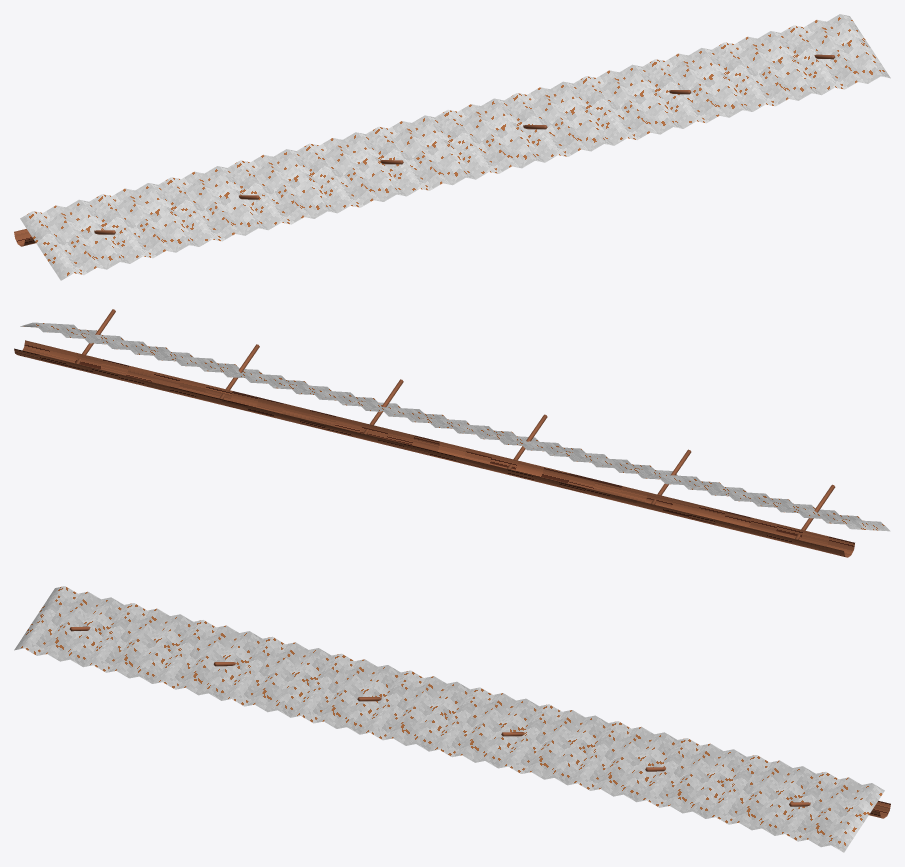
Rendered from s_cube_eave6_b.glb.
3 renders of one model, top to bottom at view 1: azimuth 30°, elevation 25°; view 2: azimuth 150°, elevation 25°; view 3: azimuth 330°, elevation 25°, orthographic.
Visible parts, largest first — view 1: s_cube_eave6_b_mesh; view 2: s_cube_eave6_b_mesh; view 3: s_cube_eave6_b_mesh.
Boxes of the visible parts, box(x1,y1,x2,y2) form: s_cube_eave6_b_mesh: box(14, 14, 890, 280); s_cube_eave6_b_mesh: box(14, 309, 890, 557); s_cube_eave6_b_mesh: box(14, 586, 890, 852).
Size of what is drawn, in the model's own units: 6 by 0.2636 by 0.6056.
Materials: 2 (2 with a texture image).
